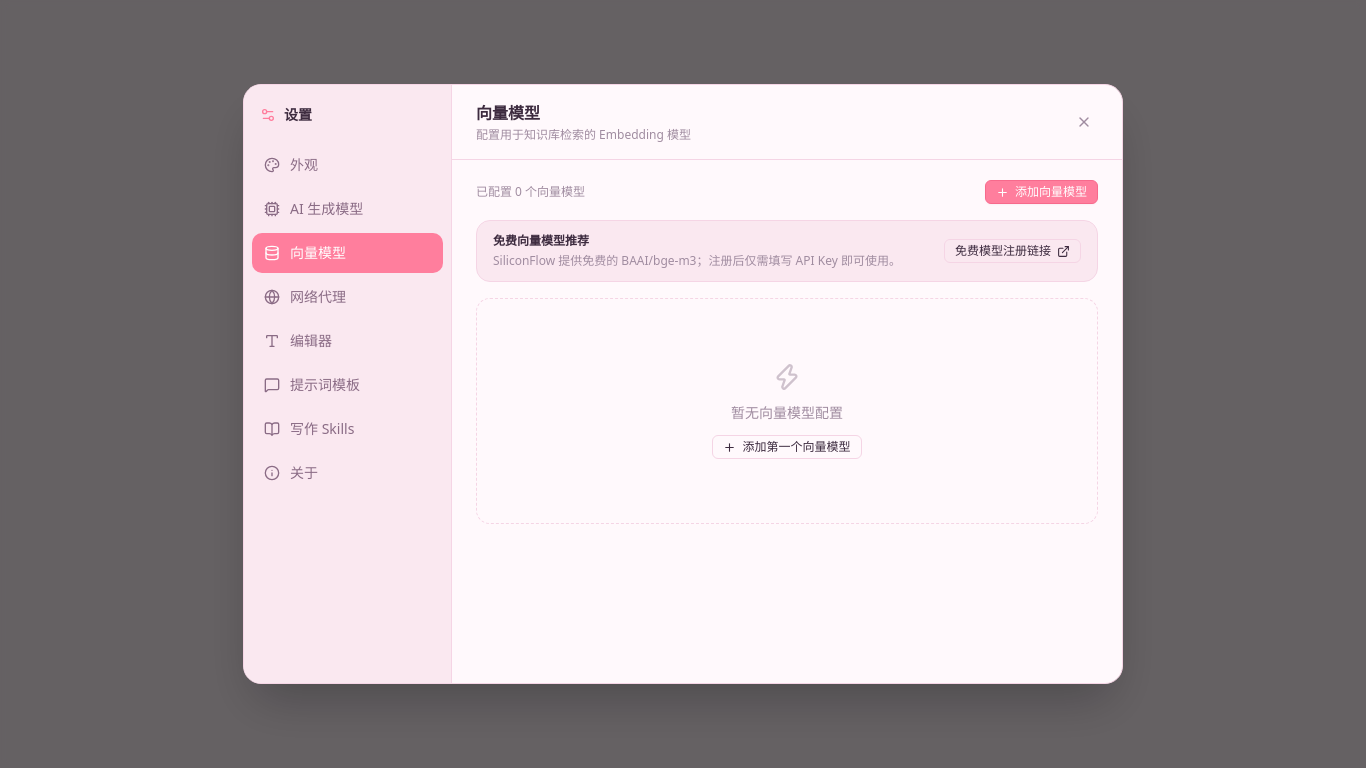
Test: embedding registration entry › hides the recommendation after the user enters the add-embedding form
Click the button "添加向量模型". click: (1042, 192)
box: [985,180,1098,204]
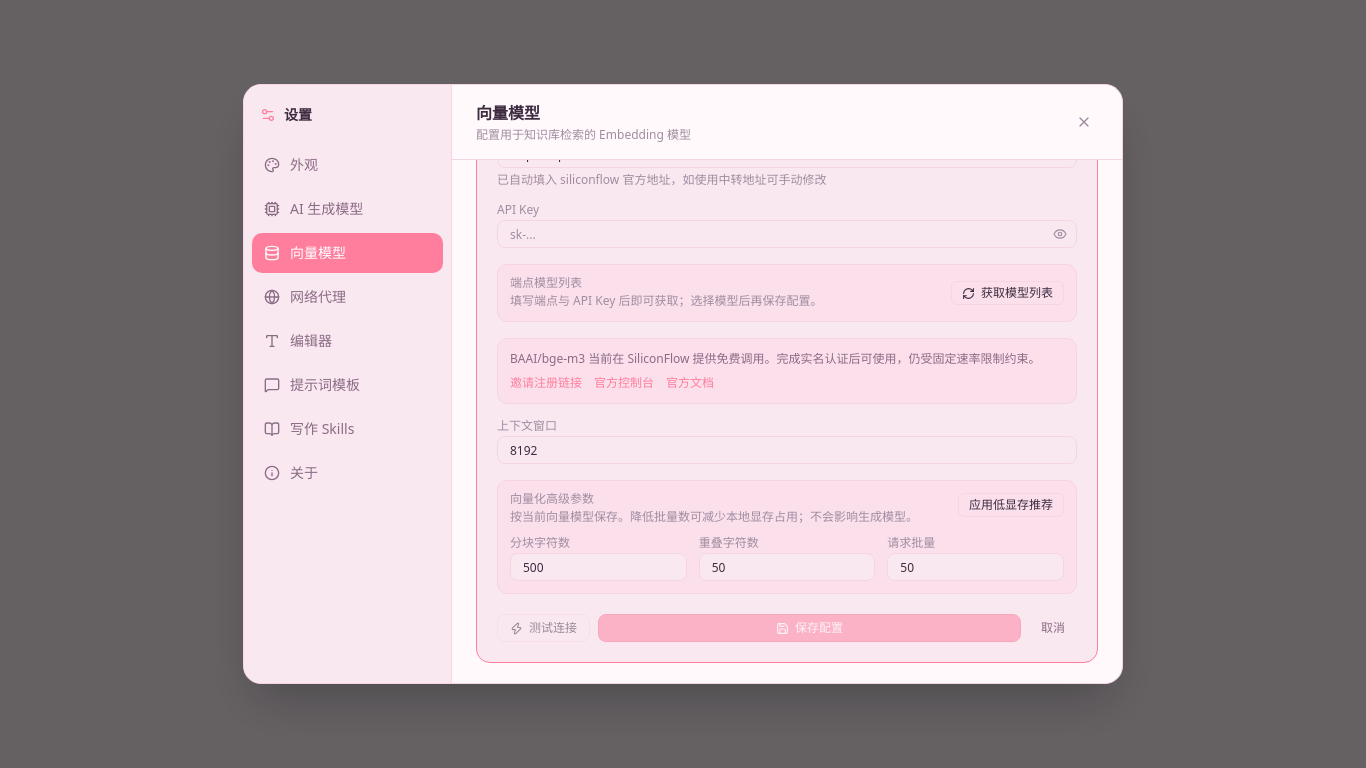
Result: the text "向量化高级参数" is shown at [510,490,594,507]
Result: the text "免费模型注册链接" is gone
